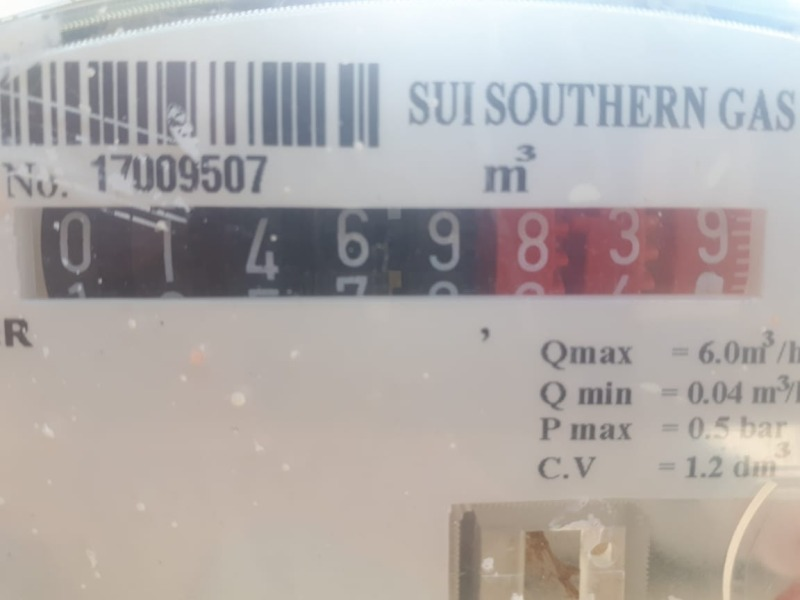ssgc: (7, 202, 770, 307)
